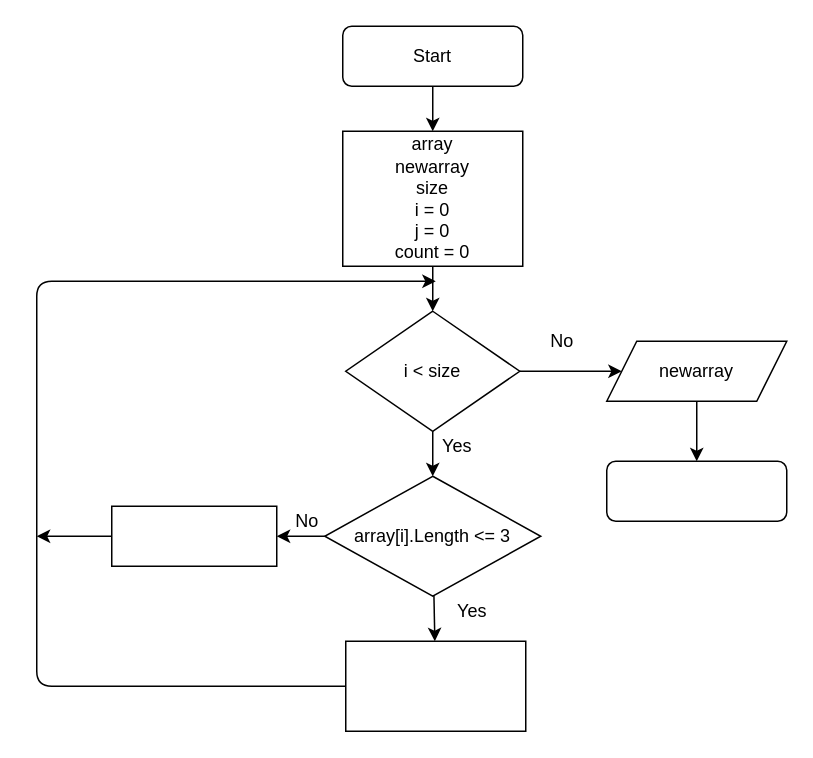
Some shapes in this 813 by 758 pixel diagram are drawn without their labels. Here are the shapes that lost their labels. From the top down, the centre of each, then its label:
pixel 696 490: Finish
pixel 193 535: i++
pixel 435 685: newarray[j] = array[i] count++
